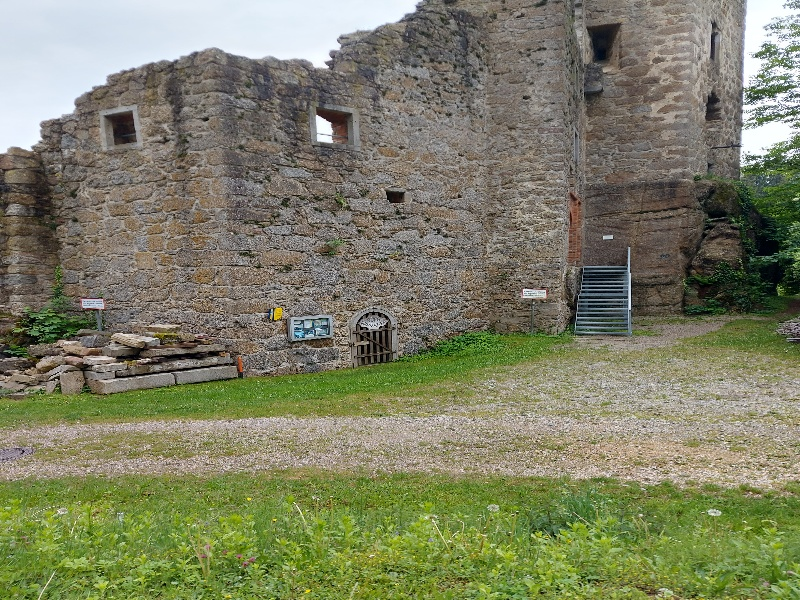dungeon: (343, 303, 405, 367)
